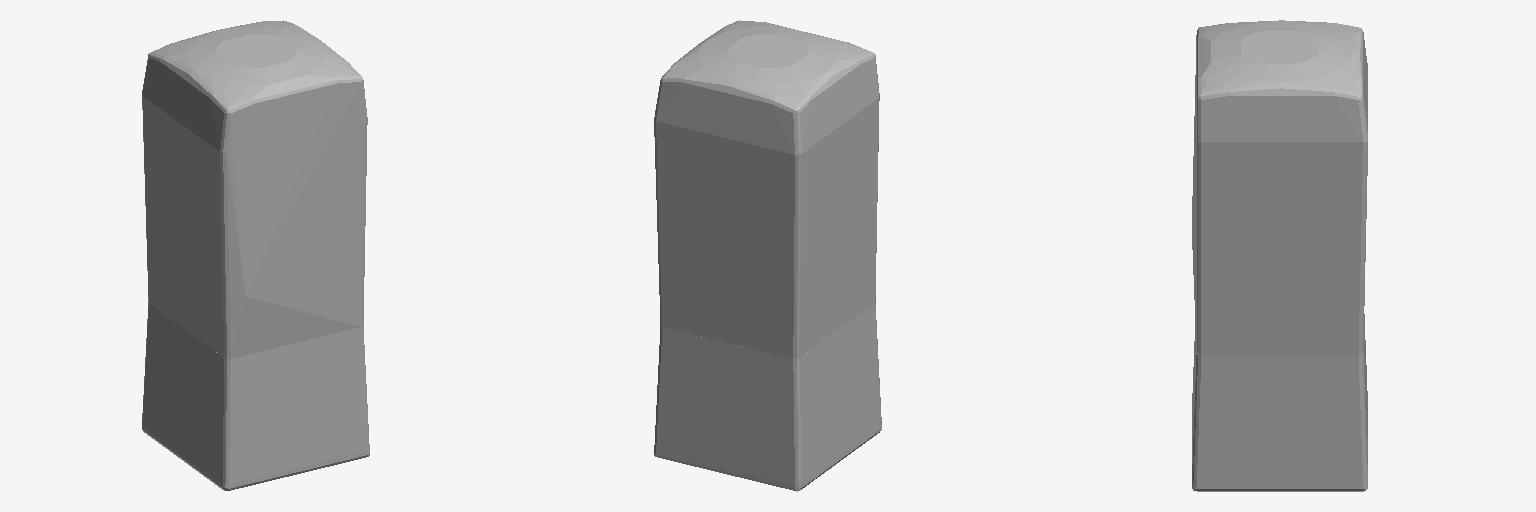
URDF robot description (root):
<?xml version="1.0"?>
<robot name="root">
  <link name="base_link">
    <visual>
      <origin xyz="0 0 0" rpy="0 0 0" />
      <geometry>
        <mesh filename="../meshes/unidex_sem_Phonebooth-a5616ee37a8126a3b3389a2ff5594ee1_008.obj" scale="1.0000E+00 1.0000E+00 1.0000E+00" />
      </geometry>
      <material name="">
        <color rgba="7.50E-01 7.50E-01 7.50E-01 1" />
      </material>
    </visual>
    <collision>
      <origin xyz="0 0 0" rpy="0 0 0" />
      <geometry>
        <mesh filename="../meshes/unidex_sem_Phonebooth-a5616ee37a8126a3b3389a2ff5594ee1_008.obj" scale="1.0000E+00 1.0000E+00 1.0000E+00" />
      </geometry>
    </collision>
  </link>
</robot>

--- What the picture shows (computed from the rendered views, not written in the file) ---
3 views of the same robot in one strip: view 1: azimuth 30°, elevation 25°; view 2: azimuth 150°, elevation 25°; view 3: azimuth 270°, elevation 25° (orthographic).
Robot: root — 1 links, 0 joints (none); root link base_link; default pose: all joints at 0.
Visible links, largest first — view 1: base_link; view 2: base_link; view 3: base_link.
Boxes of the visible links, x1,y1,x2,y2 form: base_link: [142, 20, 369, 490]; base_link: [654, 20, 881, 491]; base_link: [1192, 20, 1367, 491].
Size in the robot's own frame: 0.0538 by 0.0538 by 0.1376 metres.
Meshes: 1 distinct files referenced, 1 mesh visuals loaded (1 OBJ).
